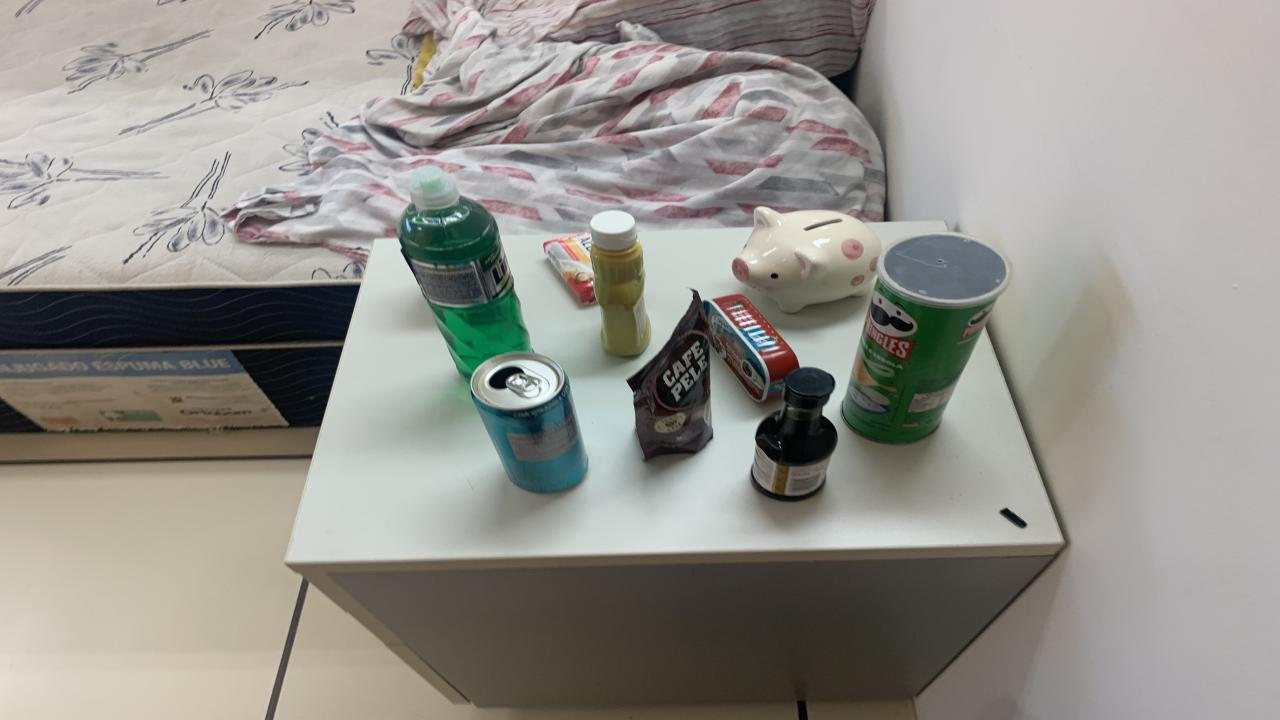Coffee-Pantry_Items: (628, 291, 712, 459)
Detergent-Cleanup_Items: (398, 167, 530, 379)
English_Sauce-Pantry_Items: (750, 368, 838, 501)
Mustard-Pantry_Items: (590, 210, 650, 356)
Pig_Safe-Miscellaneous: (732, 206, 882, 313)
Pringles-Snacks: (842, 232, 1010, 444)
Soap-Cleanup_Items: (542, 232, 598, 306)
Tea-Drinks: (470, 352, 588, 493)
Tuna_Can-Pantry_Items: (705, 294, 798, 401)
